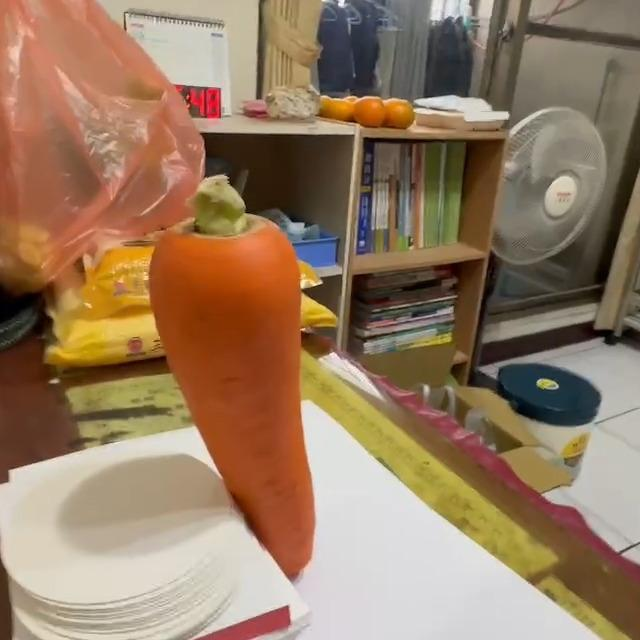carrot: (151, 177, 331, 580)
